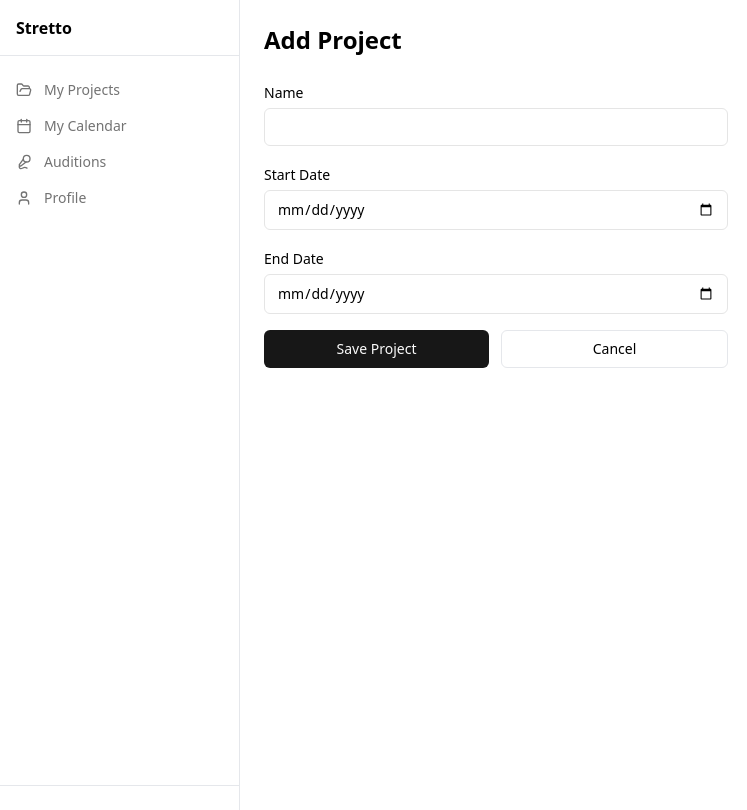
Test: shows name validation error when name is empty
What coordinates should you click on to do the following:
click the button with test id "submit-button"
I would click on:
 (376, 349)
Its box is [264,330,489,368].
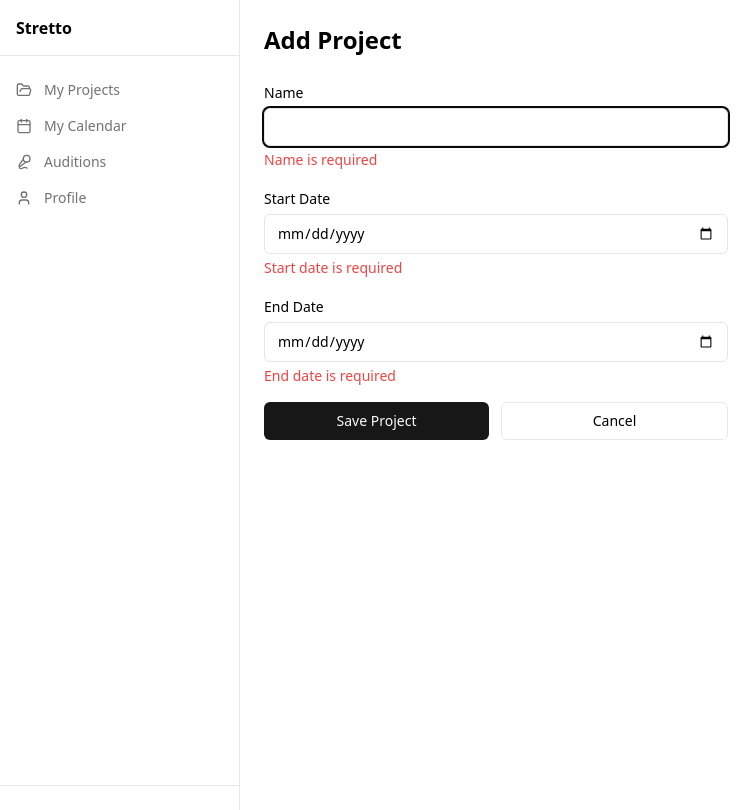
Result: the text "Name is required" is shown at [264,150,377,169]
